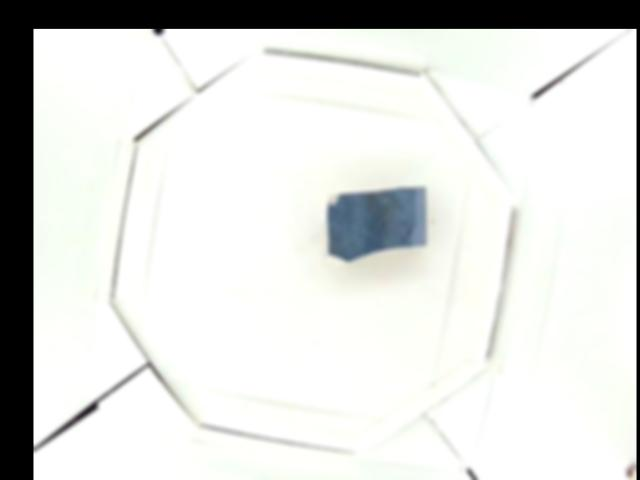China: (327, 183, 428, 262)
